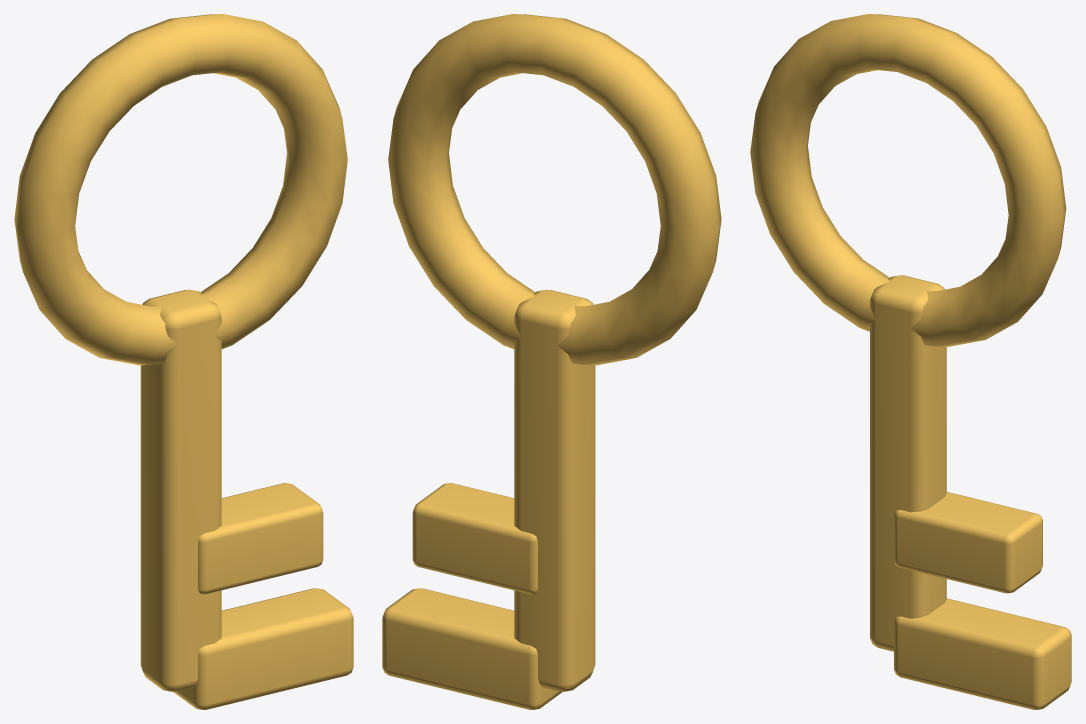
The model's file is key.glb.
3 renders of one model, left to right at view 1: azimuth 30°, elevation 25°; view 2: azimuth 150°, elevation 25°; view 3: azimuth 330°, elevation 25°, orthographic. The views are drawn at different scales.
Visible parts, largest first — view 1: Key_Ring, Key_Stem, Key_BitA, Key_BitB; view 2: Key_Ring, Key_Stem, Key_BitA, Key_BitB; view 3: Key_Ring, Key_Stem, Key_BitA, Key_BitB.
Part boxes in pixels (x1,y1,x2,y2): Key_Ring: [14, 14, 347, 365]; Key_Stem: [140, 289, 221, 691]; Key_BitA: [173, 588, 353, 709]; Key_BitB: [198, 483, 323, 594]; Key_Ring: [388, 14, 721, 365]; Key_Stem: [514, 289, 595, 691]; Key_BitA: [382, 588, 562, 709]; Key_BitB: [412, 483, 537, 594]; Key_Ring: [750, 14, 1066, 346]; Key_Stem: [870, 275, 946, 651]; Key_BitA: [894, 598, 1071, 709]; Key_BitB: [894, 492, 1042, 593].
Size of the model in its own units: 0.216 by 0.4315 by 0.042.
